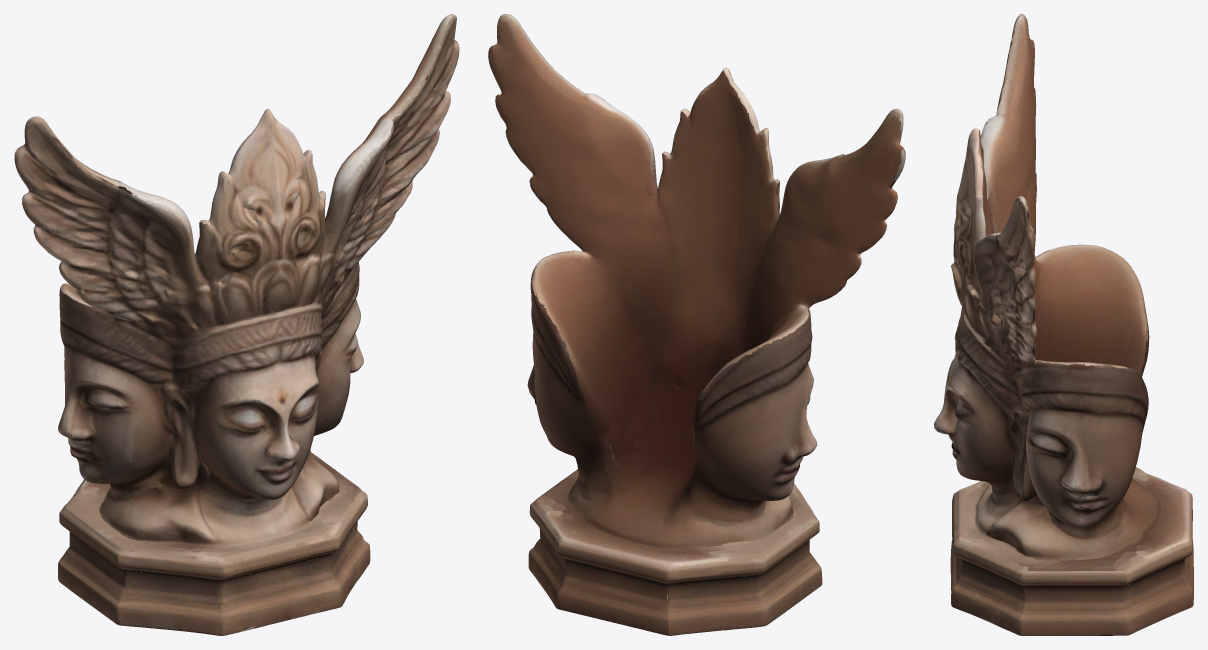
File: hero_goddess_bust.glb
3 renders of one model, left to right at view 1: azimuth 30°, elevation 25°; view 2: azimuth 150°, elevation 25°; view 3: azimuth 270°, elevation 25°, orthographic. The views are drawn at different scales.
Parts seen in each view (by area): view 1: hero_goddess_bust_shape.ply; view 2: hero_goddess_bust_shape.ply; view 3: hero_goddess_bust_shape.ply.
Part boxes in pixels (bbox=[...]): hero_goddess_bust_shape.ply: bbox=[14, 14, 459, 635]; hero_goddess_bust_shape.ply: bbox=[488, 14, 905, 635]; hero_goddess_bust_shape.ply: bbox=[934, 14, 1193, 635].
Bounding box in the file's own units: 0.8801 × 1 × 0.4958.
1 material, 1 textured.
